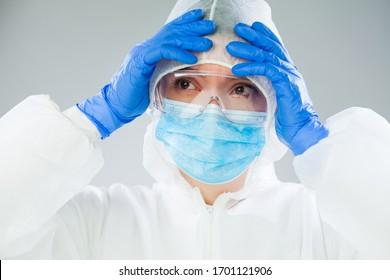gloves: (75, 9, 217, 139), (225, 21, 329, 156)
